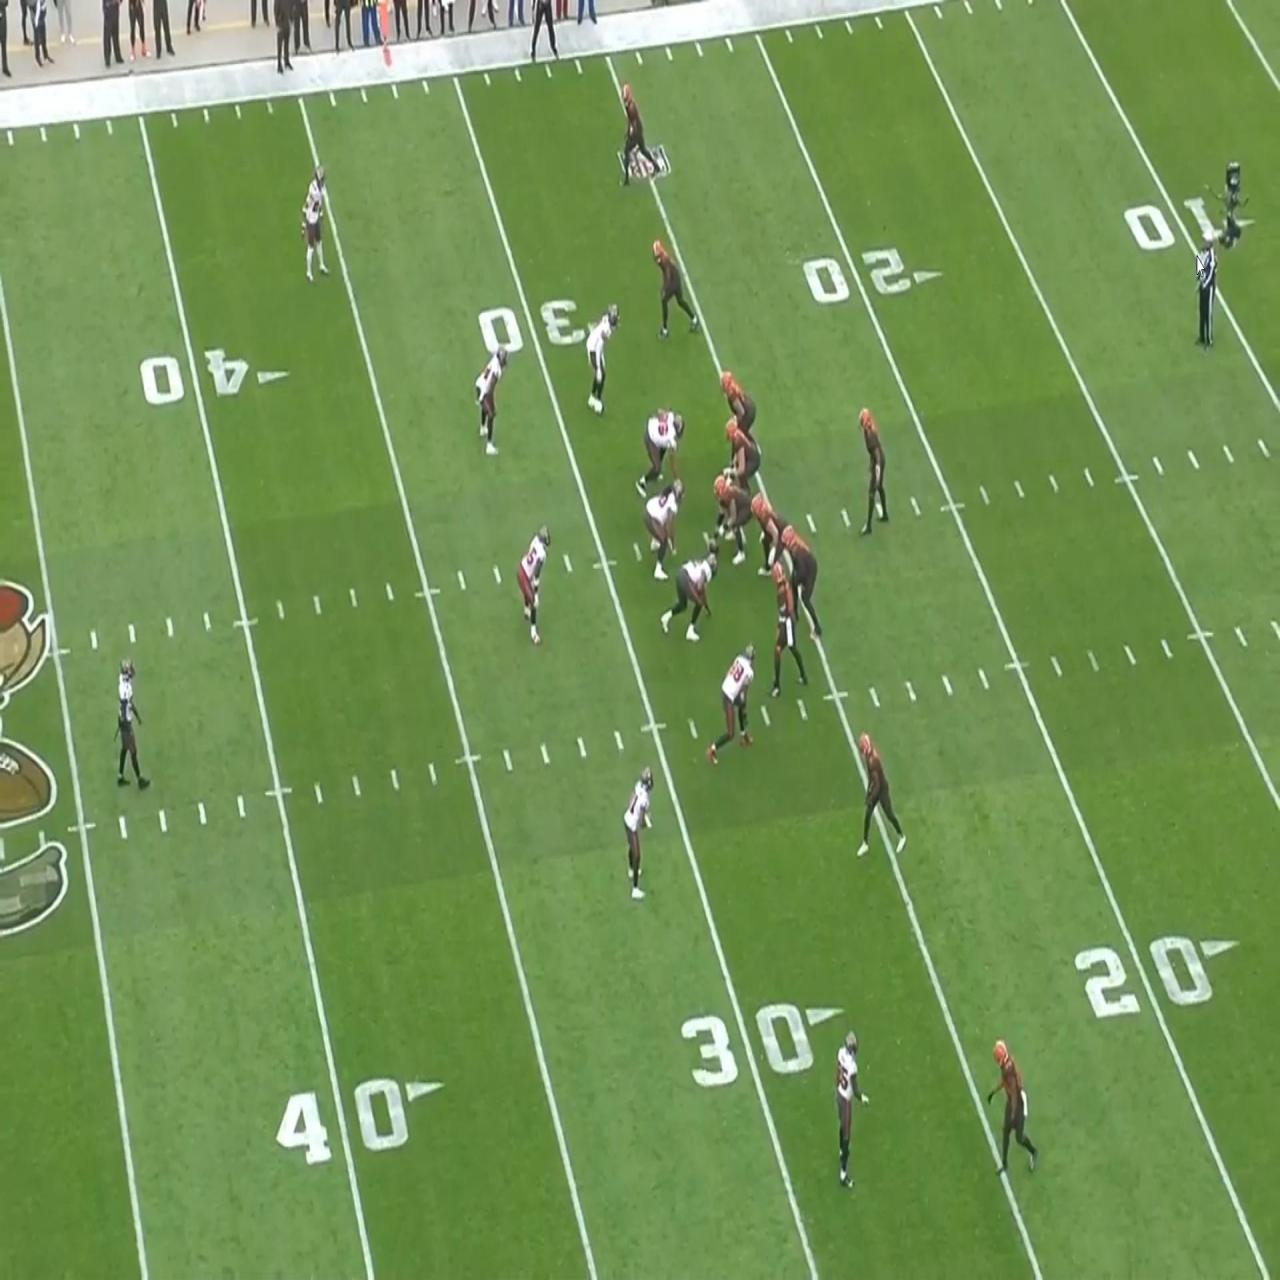10R: (1123, 195, 1259, 254)
20R: (1075, 933, 1240, 1015), (803, 244, 946, 305)
30R: (682, 1002, 844, 1085), (479, 299, 619, 353)
40R: (274, 1076, 444, 1163), (139, 347, 290, 407)
